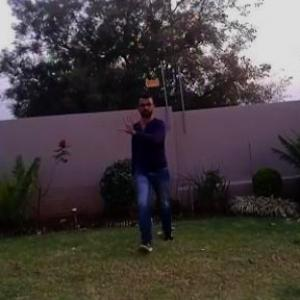follow_hand: (112, 112, 140, 140)
